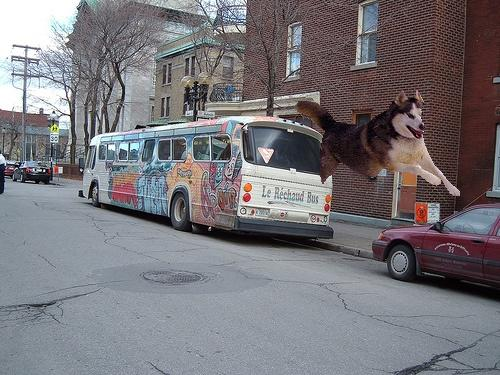tampered: (296, 90, 460, 196)
